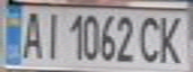0: (78, 10, 100, 61)
1: (63, 10, 84, 61)
2: (115, 11, 139, 63)
6: (100, 11, 121, 63)
A: (18, 7, 45, 61)
C: (136, 11, 166, 64)
I: (39, 8, 63, 61)
K: (154, 11, 190, 65)
